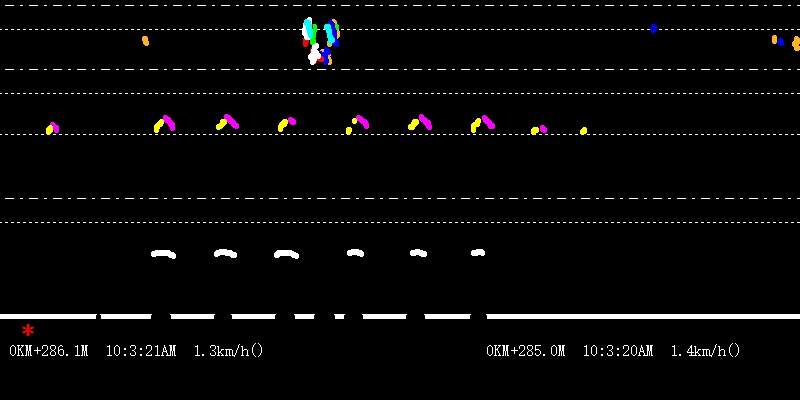J: (299, 1, 339, 66)
face_1: (649, 21, 659, 36)
face_down: (137, 25, 155, 50)
star: (19, 320, 39, 337)
y_p: (141, 105, 498, 272)
